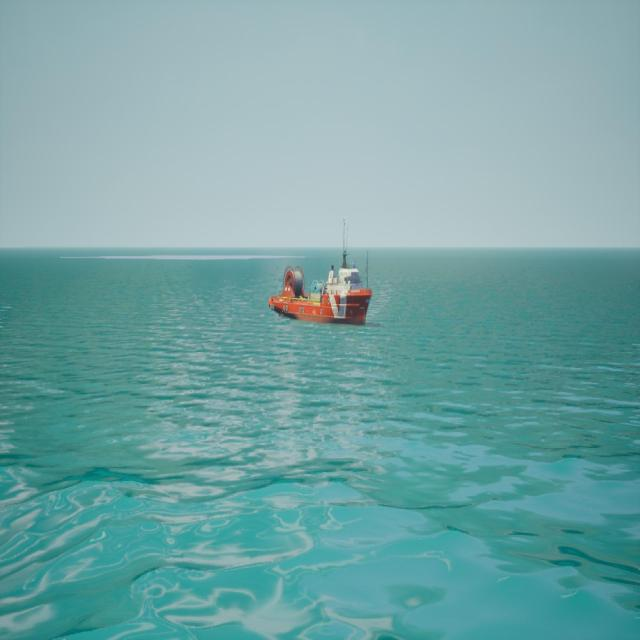tug boat: (271, 219, 372, 328)
